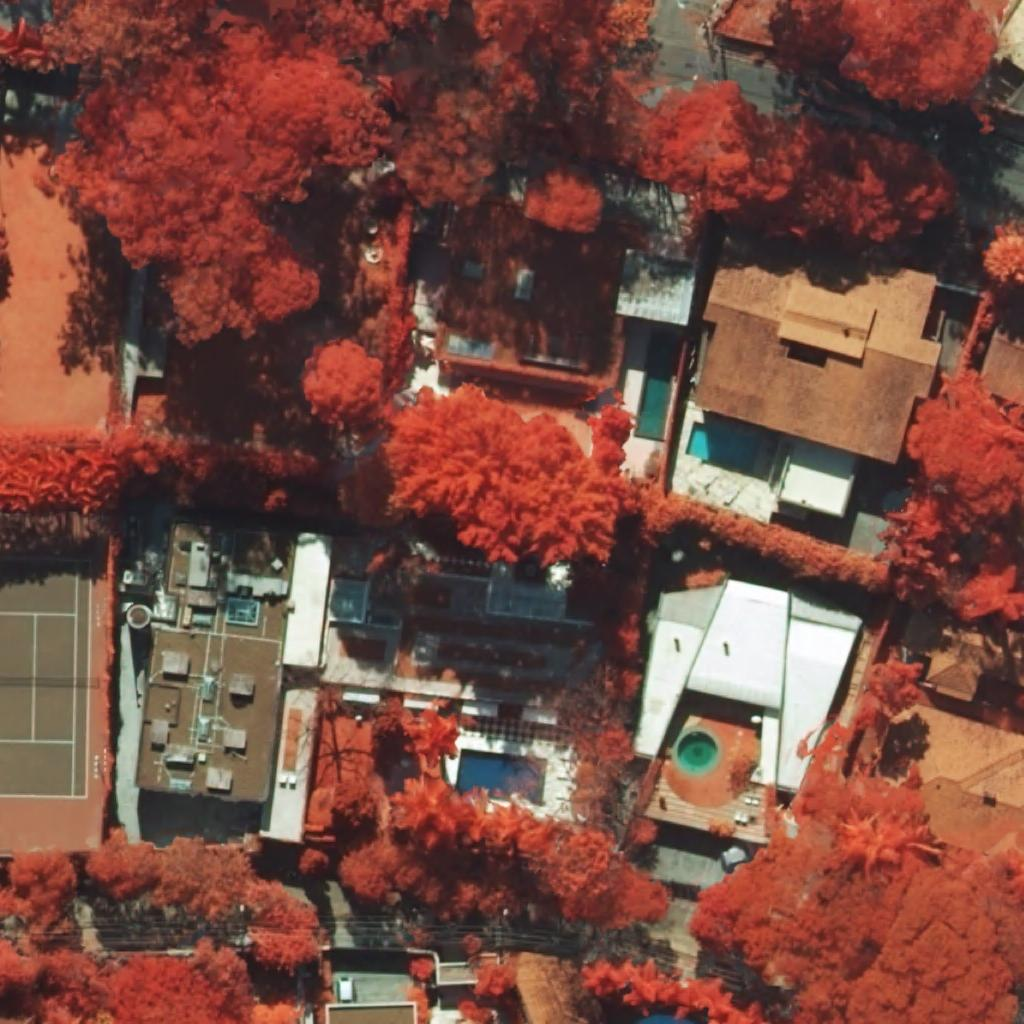pool: (634, 330, 681, 442), (455, 748, 547, 801), (686, 421, 760, 476), (677, 732, 718, 772)
